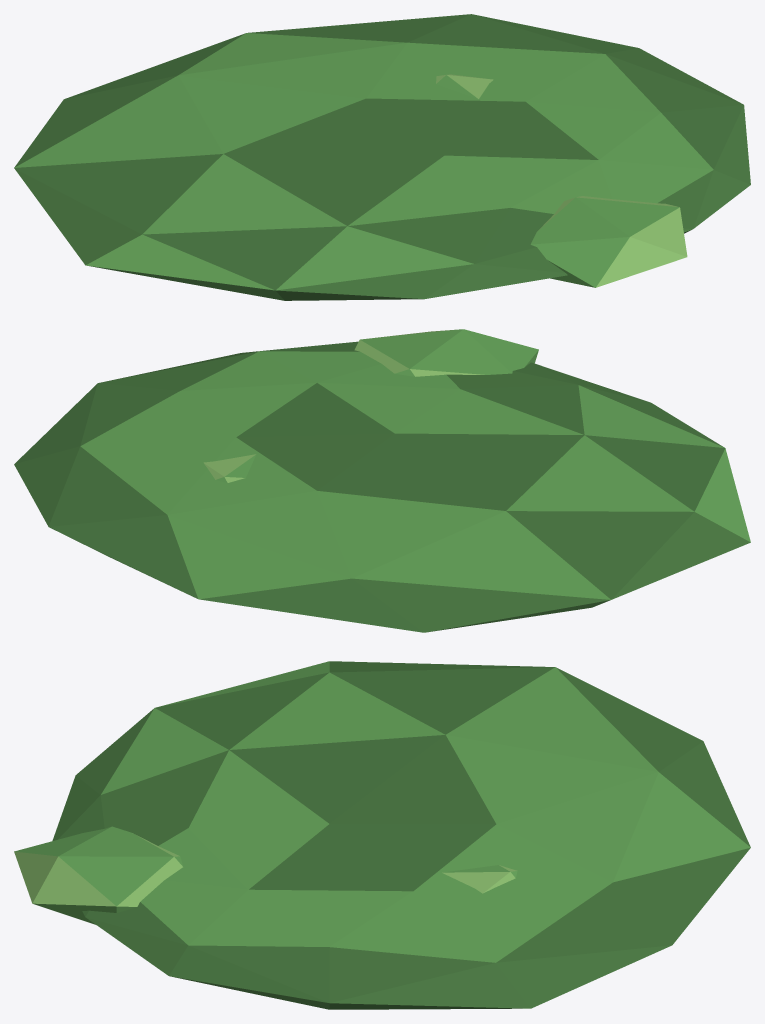
The model's file is moss_patch_d.glb.
3 renders of one model, top to bottom at view 1: azimuth 30°, elevation 25°; view 2: azimuth 150°, elevation 25°; view 3: azimuth 270°, elevation 25°, orthographic. The views are drawn at different scales.
Visible parts, largest first — view 1: MossPatchD; view 2: MossPatchD; view 3: MossPatchD.
Boxes of the visible parts, <box> form: MossPatchD: <box>14,14,750,300</box>; MossPatchD: <box>14,329,750,632</box>; MossPatchD: <box>14,661,750,1009</box>.
Size of the model in its own units: 0.7155 by 0.0395 by 0.6515.
